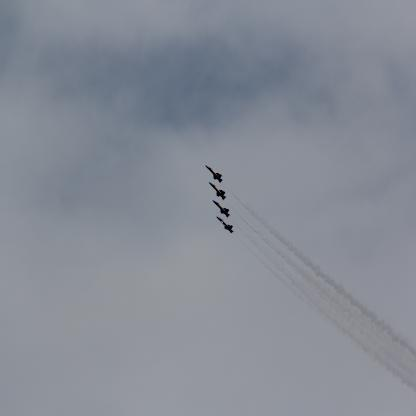aircraft: (212, 199, 231, 217), (216, 215, 234, 233), (208, 182, 226, 200), (205, 164, 223, 182)
